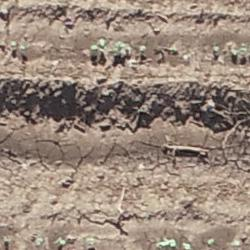cotton: (118, 43, 126, 51), (92, 44, 98, 54), (239, 47, 247, 54), (100, 39, 106, 47), (22, 42, 28, 50), (160, 241, 169, 246), (183, 243, 190, 249), (170, 238, 175, 246), (213, 46, 219, 52), (207, 239, 214, 244), (60, 239, 65, 244), (232, 49, 236, 55), (171, 49, 177, 52)
